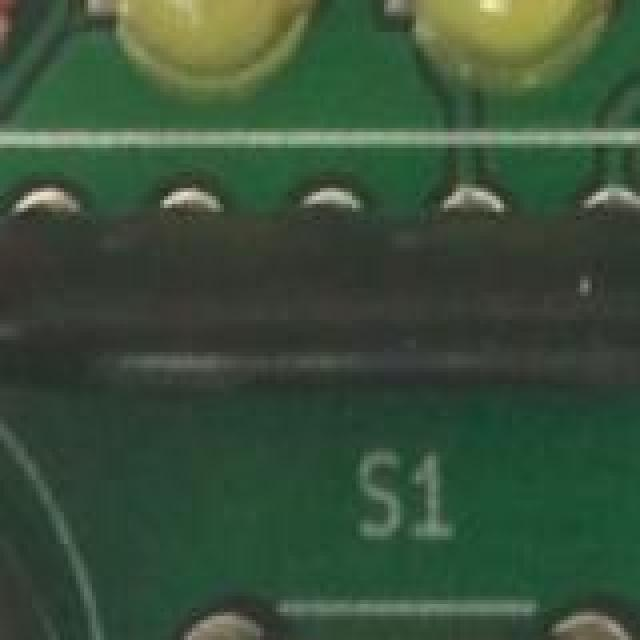IC: (0, 144, 640, 436)
LED: (100, 0, 304, 136), (408, 0, 620, 100), (0, 0, 4, 112)
buzzer: (0, 328, 68, 640)
switch: (220, 632, 616, 640)
